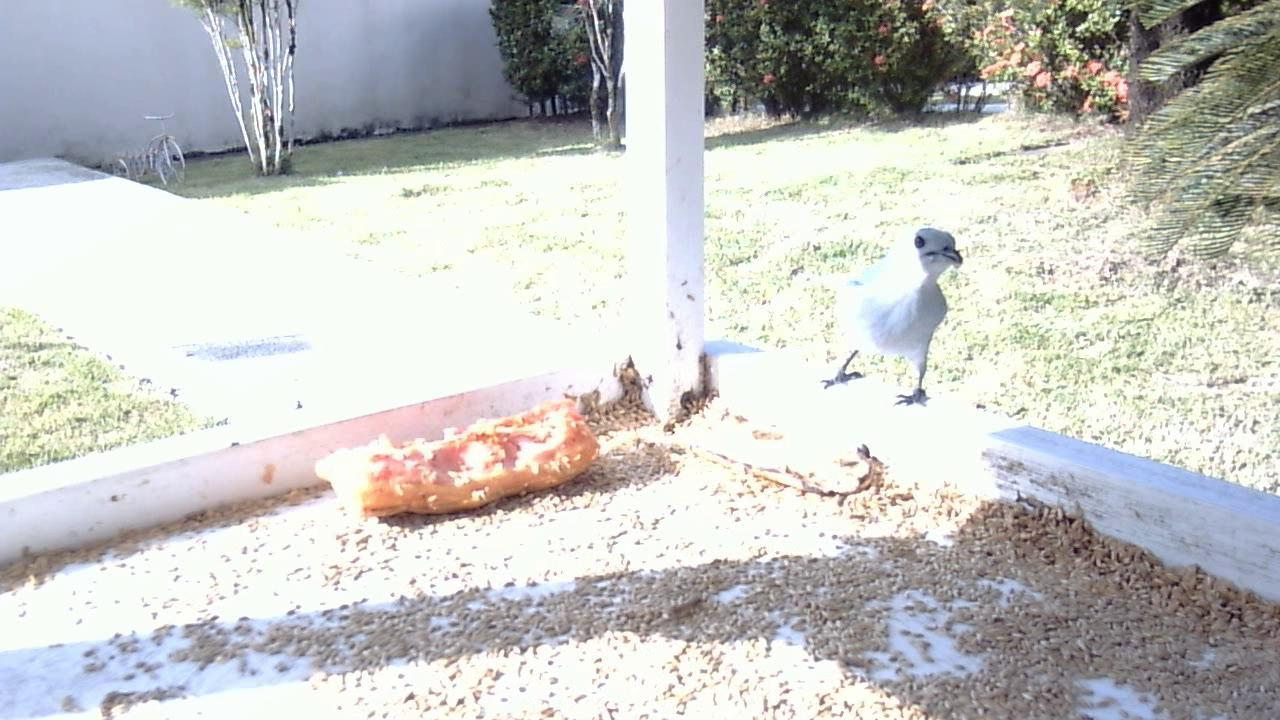sanhaco_da_amazonia: (814, 223, 967, 414)
